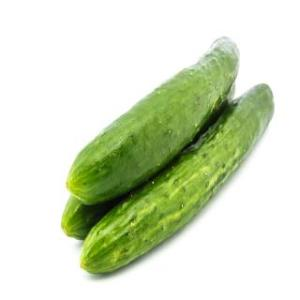cucumber: (77, 84, 275, 276), (66, 38, 242, 202)
